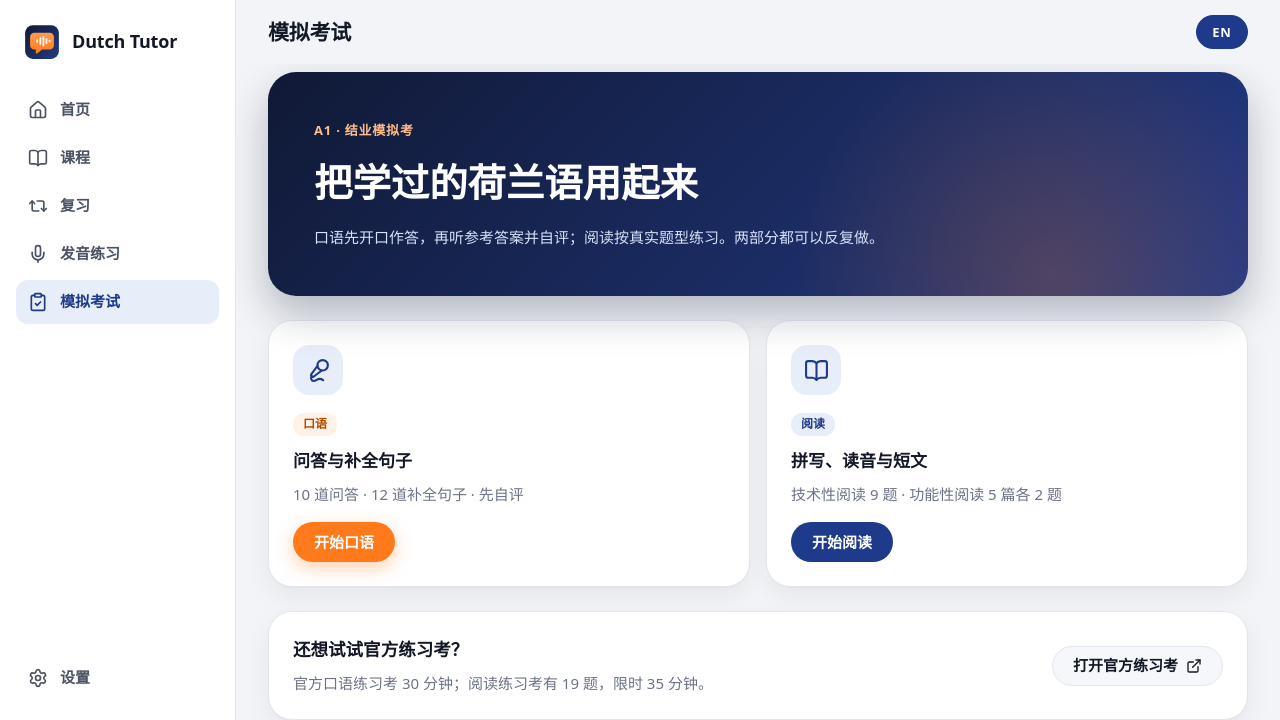
Test: exam shows Android permission guidance
What coordinates should you click on to do the following:
click the button "开始口语"
I would click on:
 (344, 542)
Its box is [293,522,395,562].
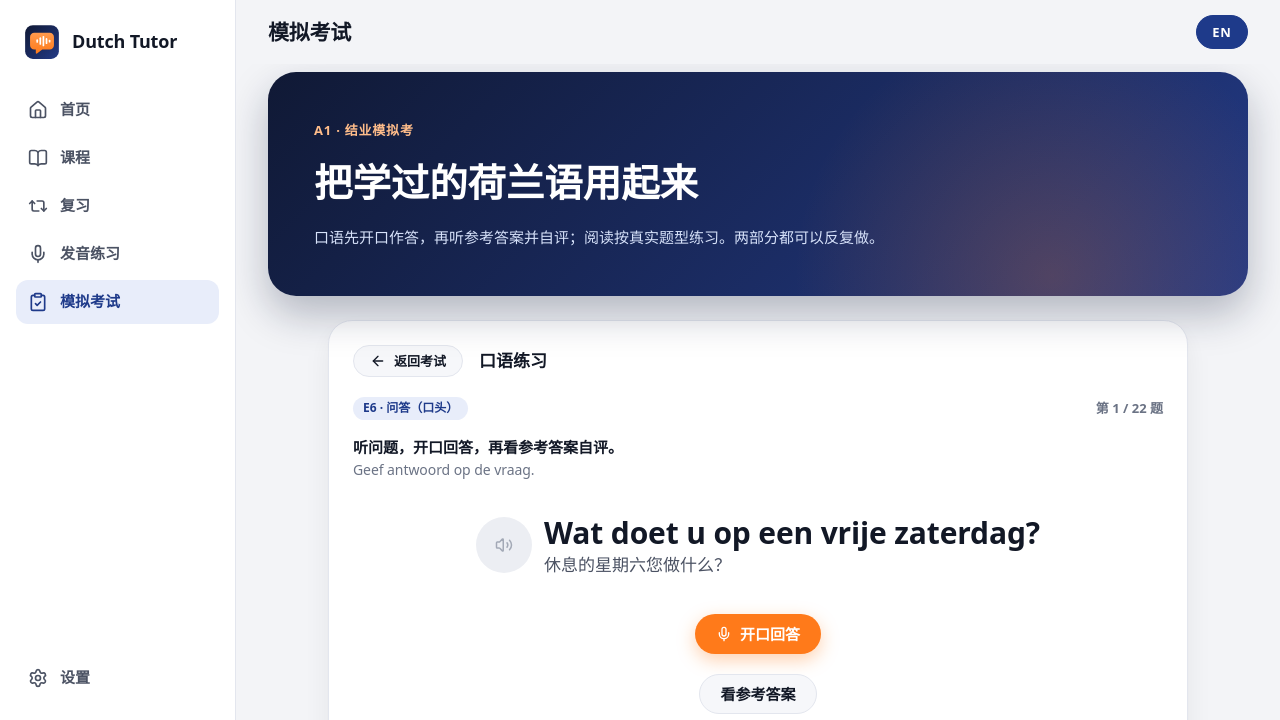
What coordinates should you click on to do the following:
click the button "开口回答"
I would click on:
 (758, 634)
Its box is [695,614,821,654].
(page scrolled)
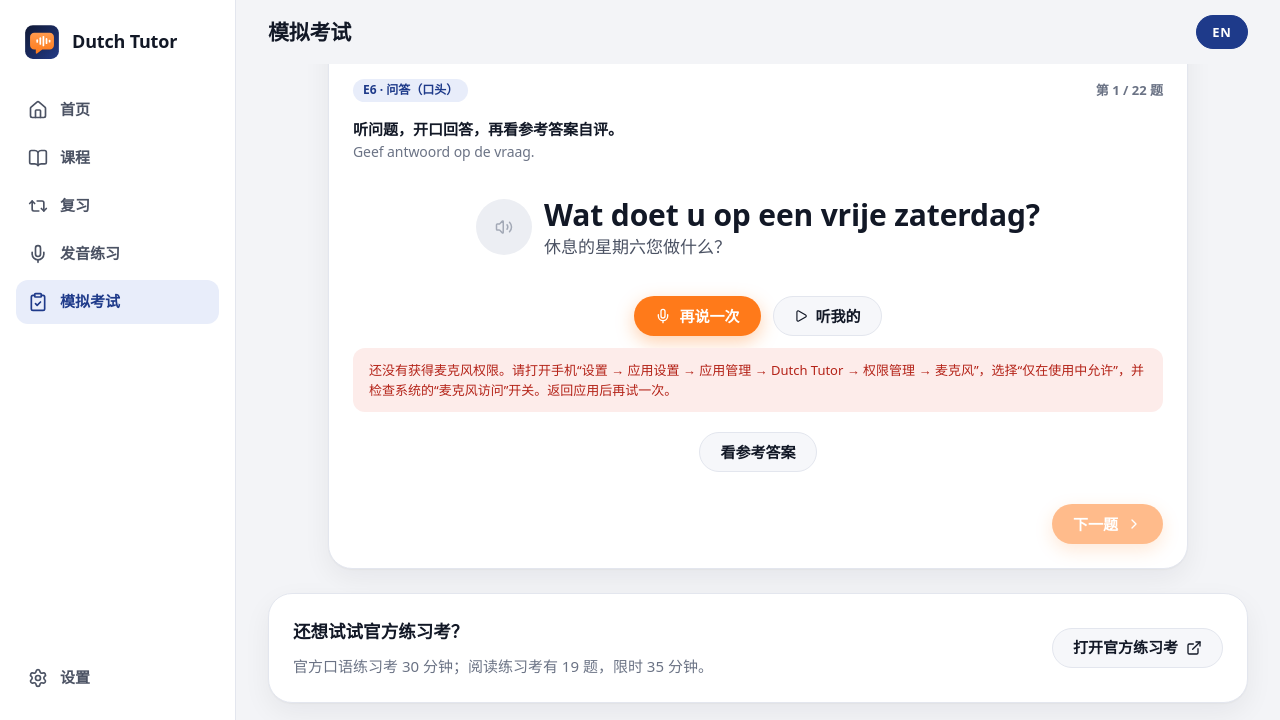
Expected: the message shows "权限管理 → 麦克风", [369,361,1144,399]
